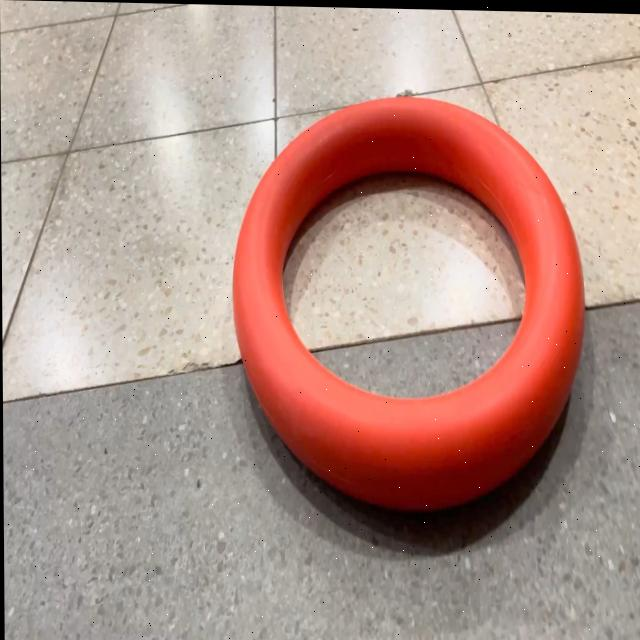note: (229, 87, 587, 517)
